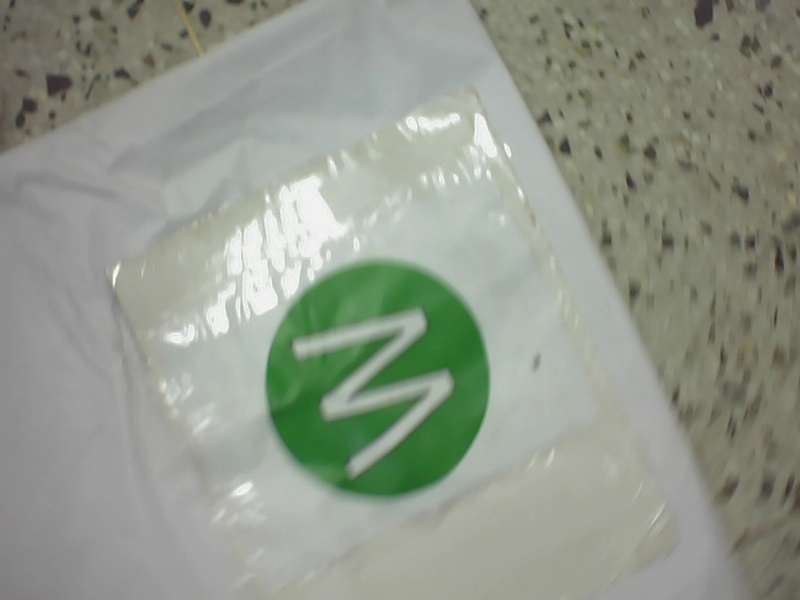areaB: (264, 258, 498, 506)
